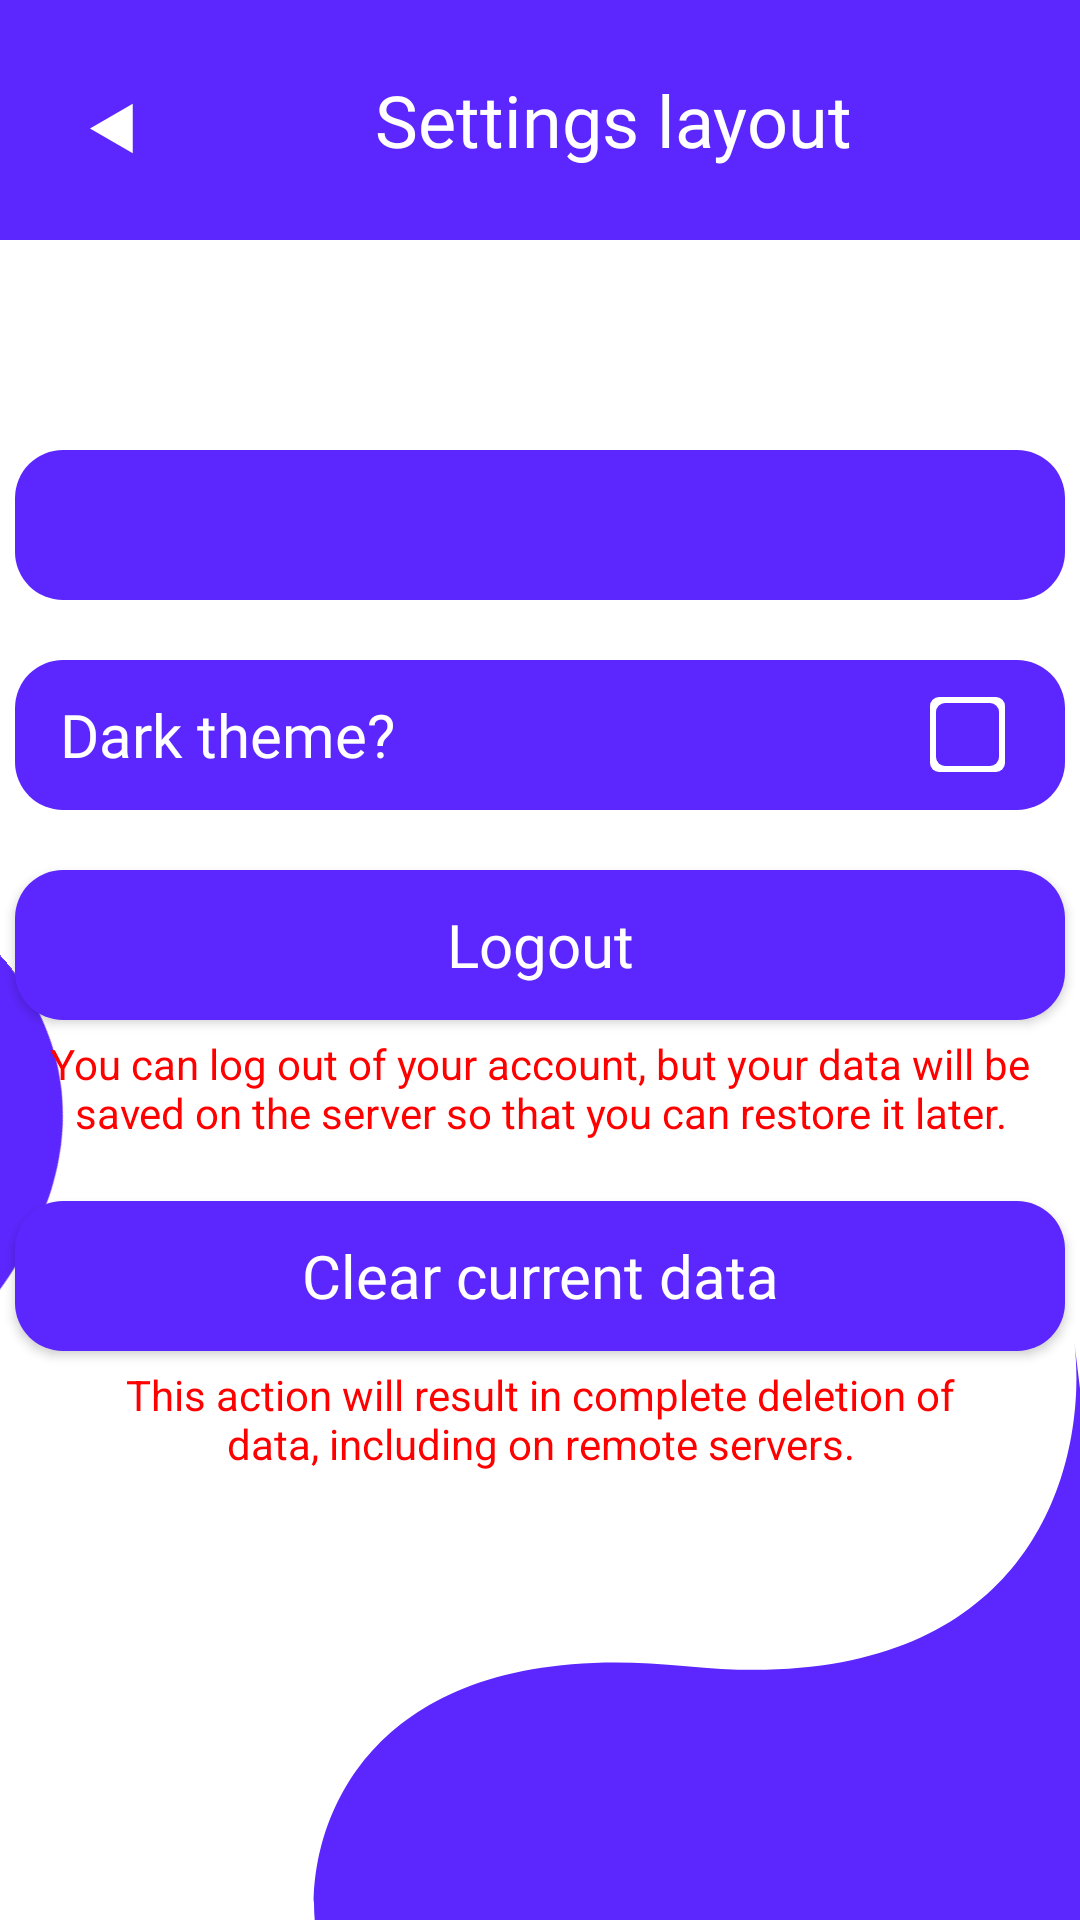

Icon click points for this 1080 x 1920 phone screenshot, format [x,y]:
back arrow: [111,128]
